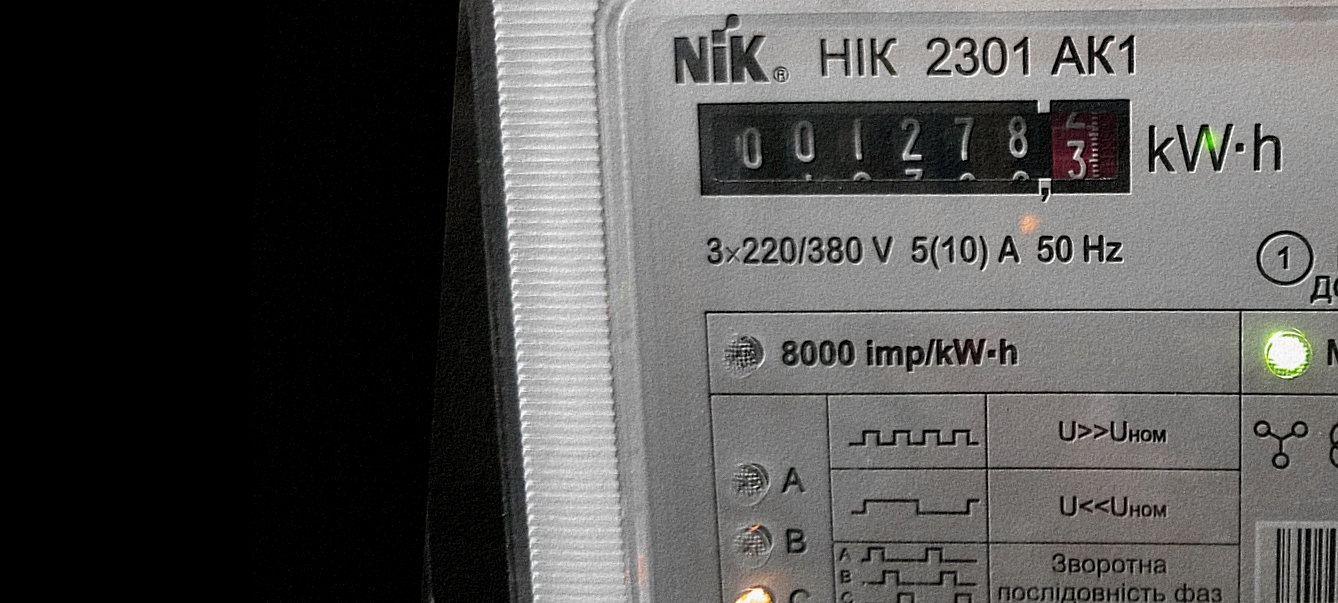0: (739, 122, 769, 172), (791, 117, 820, 165)
1: (849, 114, 870, 161)
2: (898, 115, 928, 164), (1064, 109, 1089, 130)
3: (1063, 136, 1092, 182)
7: (951, 114, 976, 162)
8: (1006, 114, 1033, 159)
screen: (678, 58, 1155, 236)
